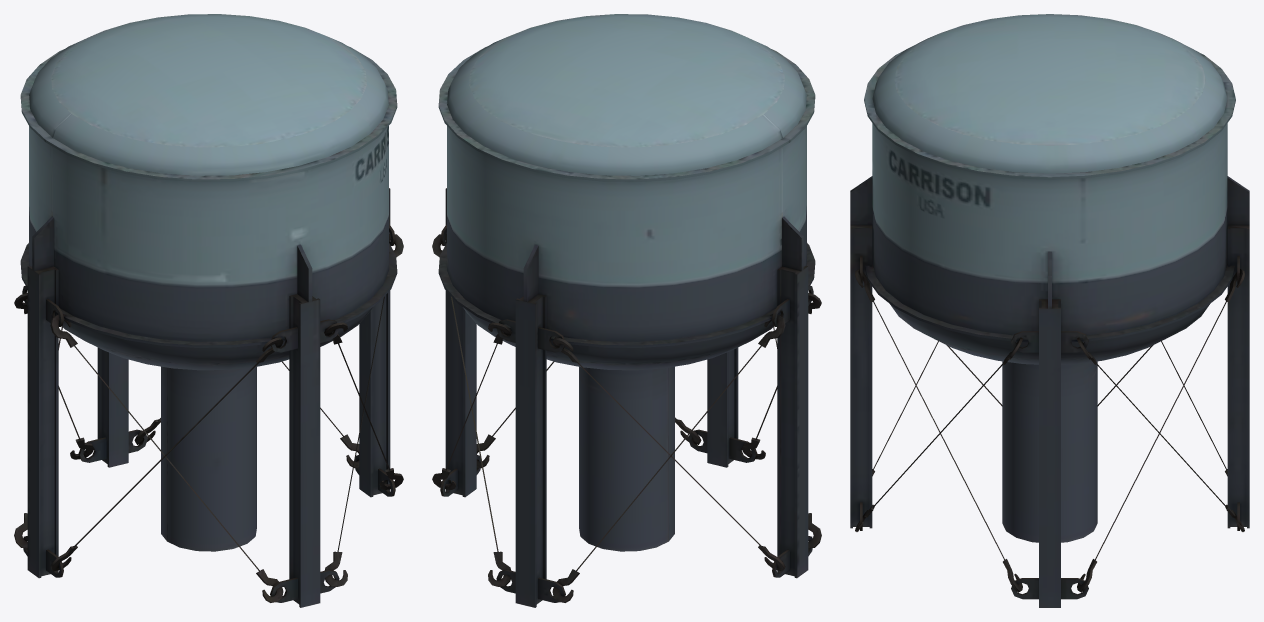
The picture shows the model from 3 angles, left to right: view 1: azimuth 30°, elevation 25°; view 2: azimuth 150°, elevation 25°; view 3: azimuth 270°, elevation 25°; orthographic projection.
Visible parts, largest first — view 1: body0_model0_lod0_mesh0; view 2: body0_model0_lod0_mesh0; view 3: body0_model0_lod0_mesh0.
Boxes of the visible parts, left/top/right/bottom form: body0_model0_lod0_mesh0: left=14, top=14, right=403, bottom=607; body0_model0_lod0_mesh0: left=432, top=14, right=821, bottom=607; body0_model0_lod0_mesh0: left=850, top=14, right=1249, bottom=607.
Size of the model in its own units: 72.01 by 92.5 by 72.01.
1 material, 1 textured.
